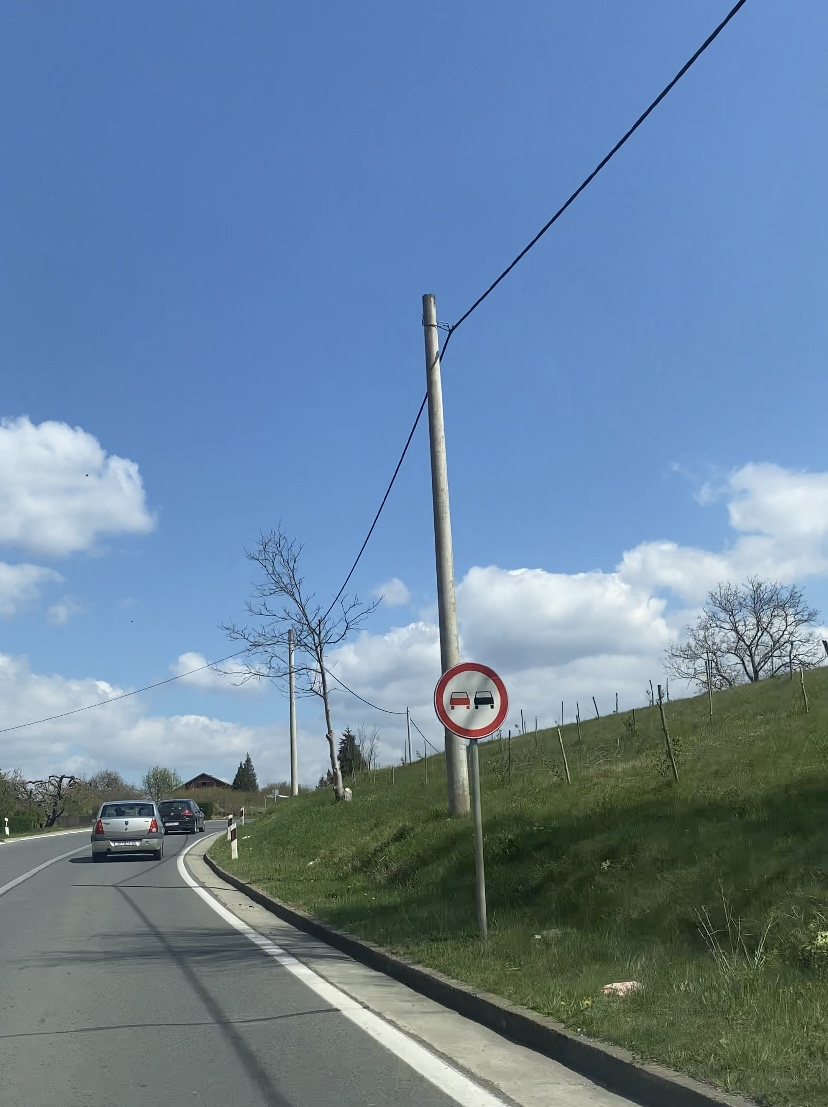Zabrana pretjecanja: (434, 662, 509, 739)
